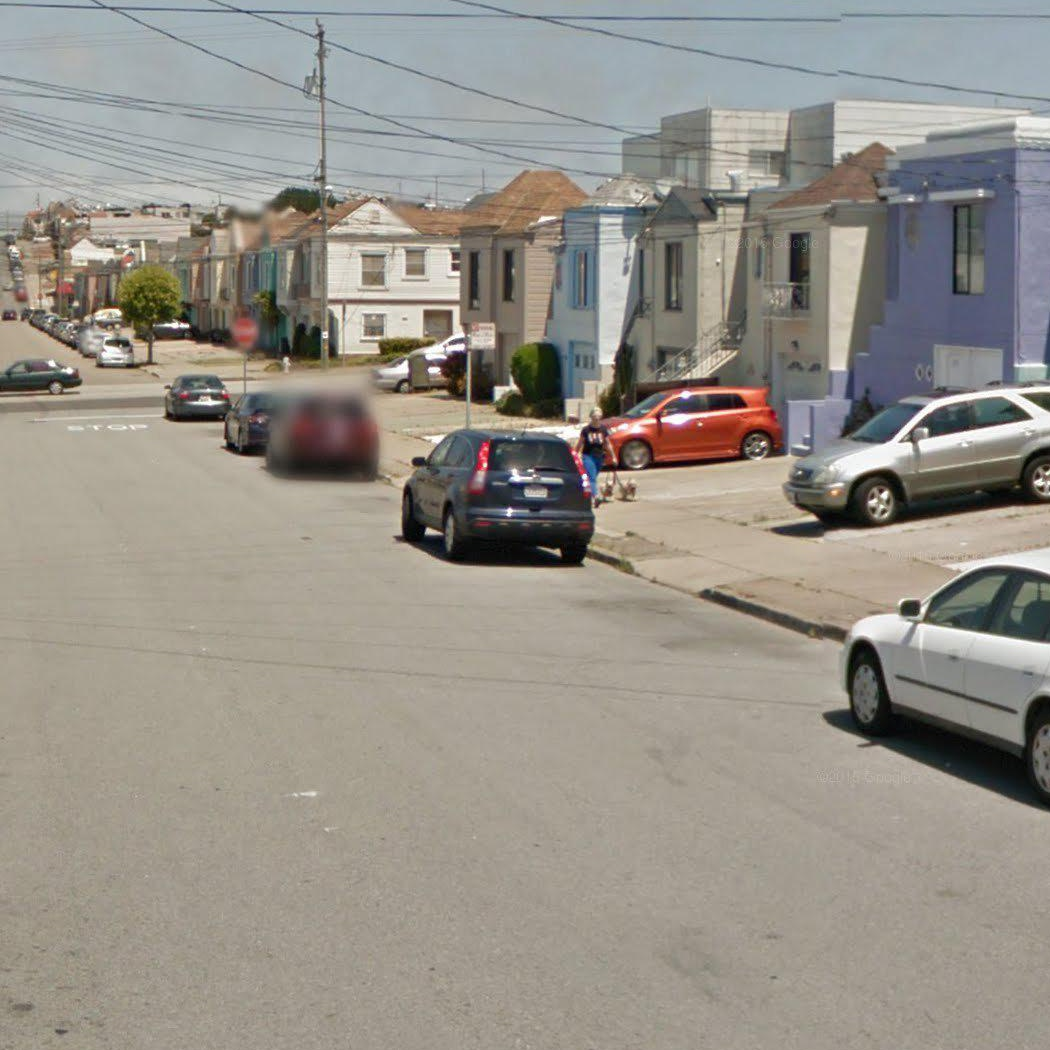No Parking: (471, 321, 496, 349)
